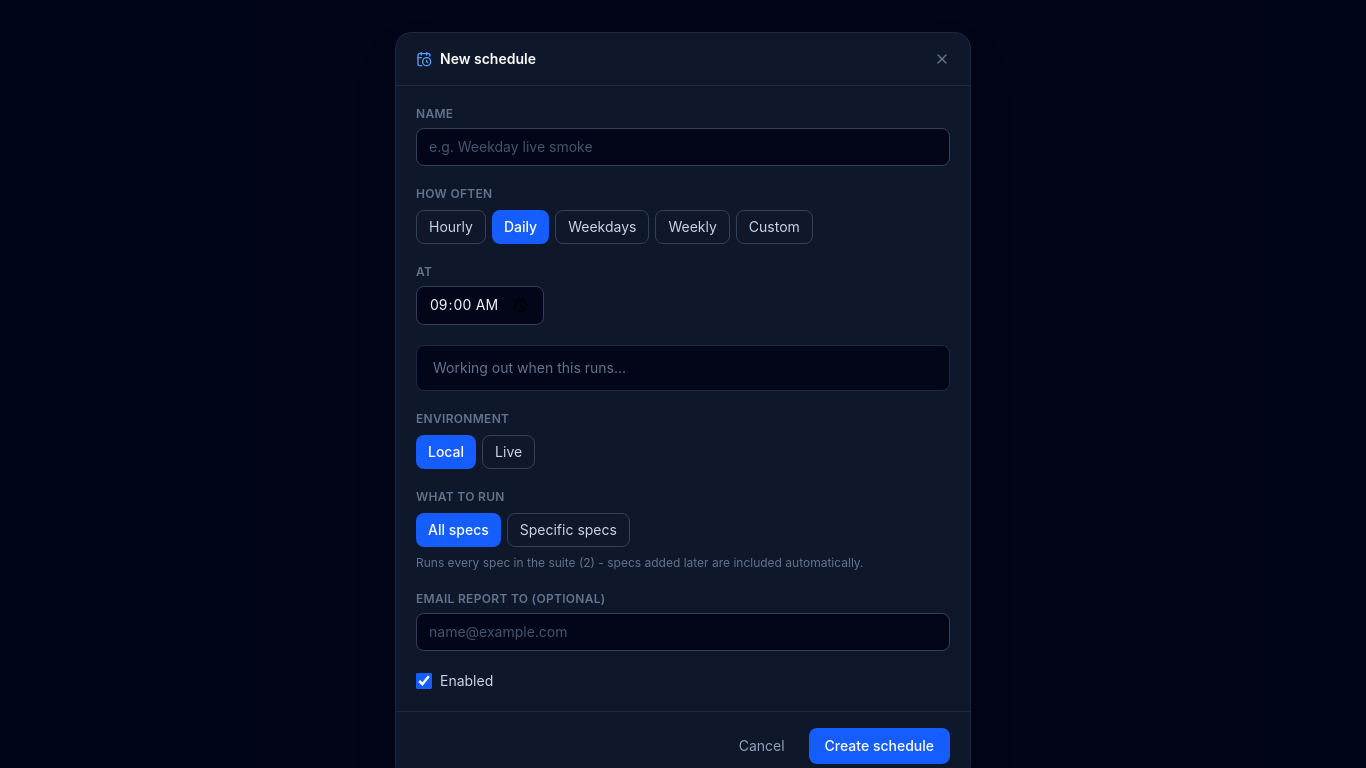
it: ScheduleDialog › swaps to a cron box for a custom cadence
The image size is (1366, 768).
Check: the field with placeholder "0 9 * * 1-5" is not shown
Click the radio button labelled "Custom". click: (774, 227)
box: [736,210,813,244]
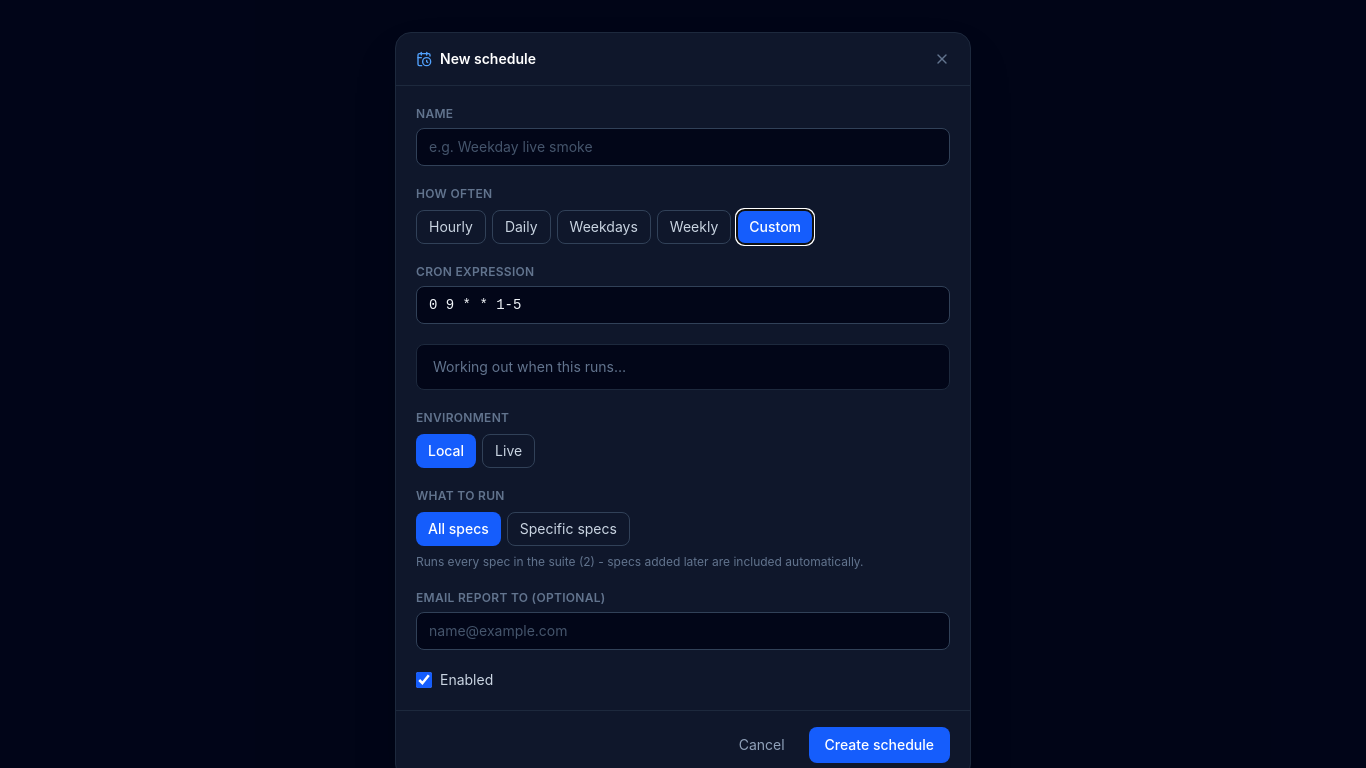
Check: the field with placeholder "0 9 * * 1-5" is shown, box [416,286,950,324]
